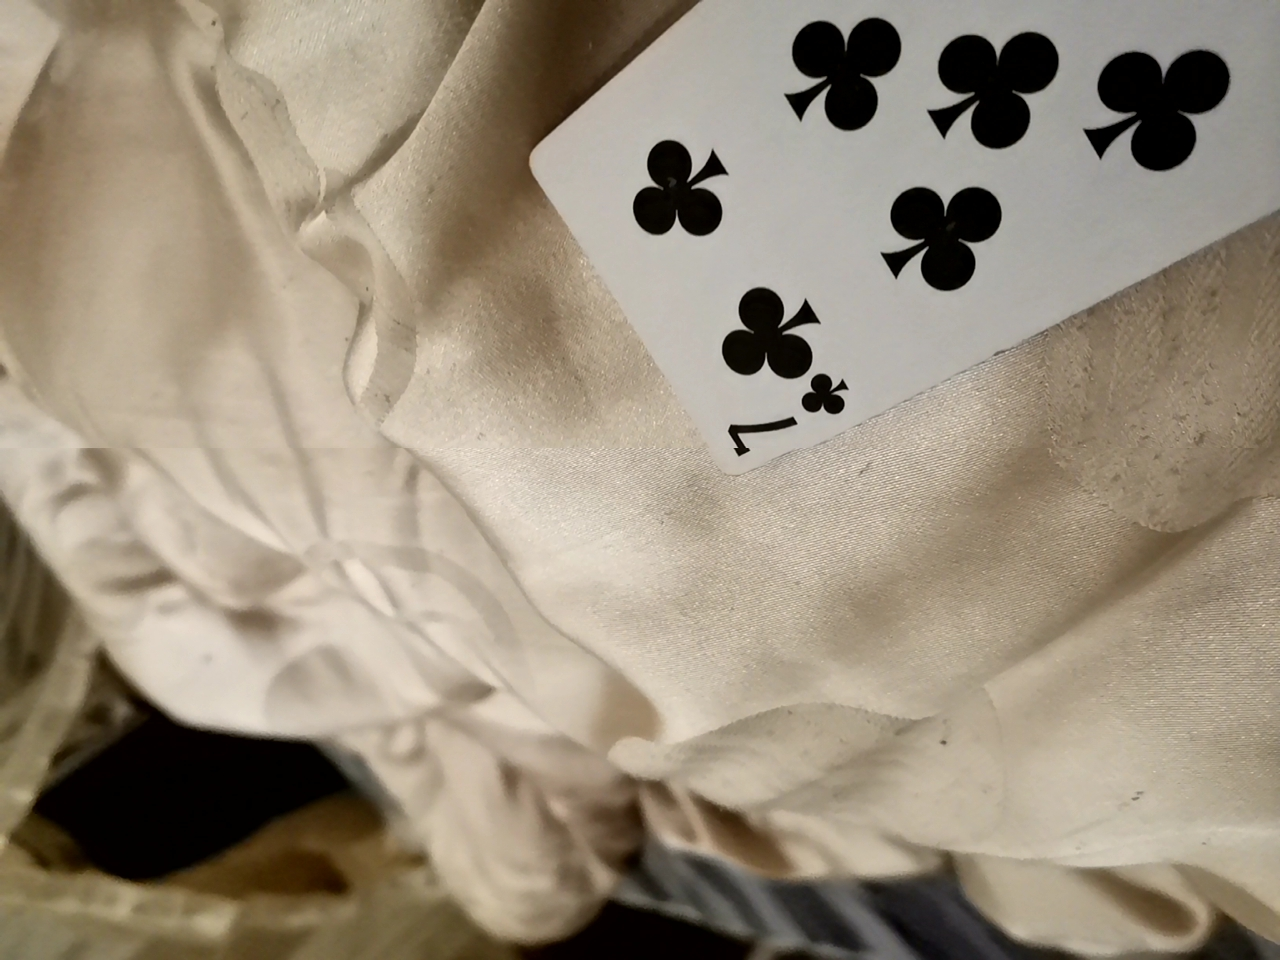mh 7: (506, 2, 1274, 480)
